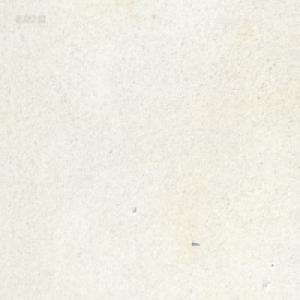Nail: (191, 240, 199, 246)
